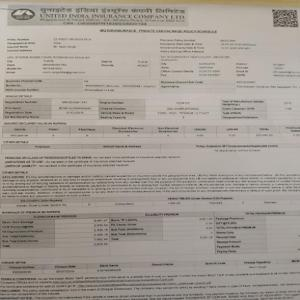image: (8, 5, 188, 28)
table: (3, 213, 300, 258), (2, 122, 300, 149), (2, 98, 300, 122), (6, 78, 300, 95), (1, 261, 300, 275), (4, 196, 300, 208)
text: (6, 34, 300, 78), (2, 152, 300, 192)
